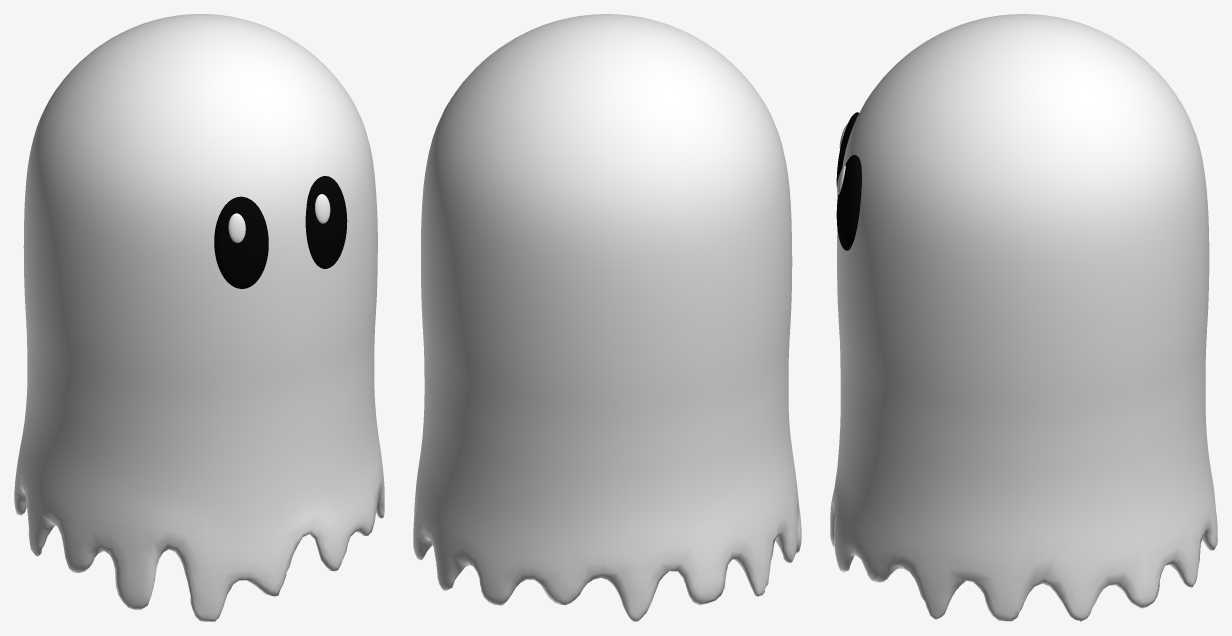
Rendered from ghost.obj.
The picture shows the model from 3 angles, left to right: view 1: azimuth 30°, elevation 25°; view 2: azimuth 150°, elevation 25°; view 3: azimuth 270°, elevation 25°; orthographic projection. The views are drawn at different scales.
Parts seen in each view (by area): view 1: Sphere001; view 2: Sphere001; view 3: Sphere001.
Part boxes in pixels (x1=…): Sphere001: x1=14, y1=14, x2=384, y2=621; Sphere001: x1=413, y1=14, x2=801, y2=621; Sphere001: x1=830, y1=14, x2=1217, y2=621.
Size of the model in its own units: 3.31 by 5.12 by 3.31.
1 material, 1 textured.
